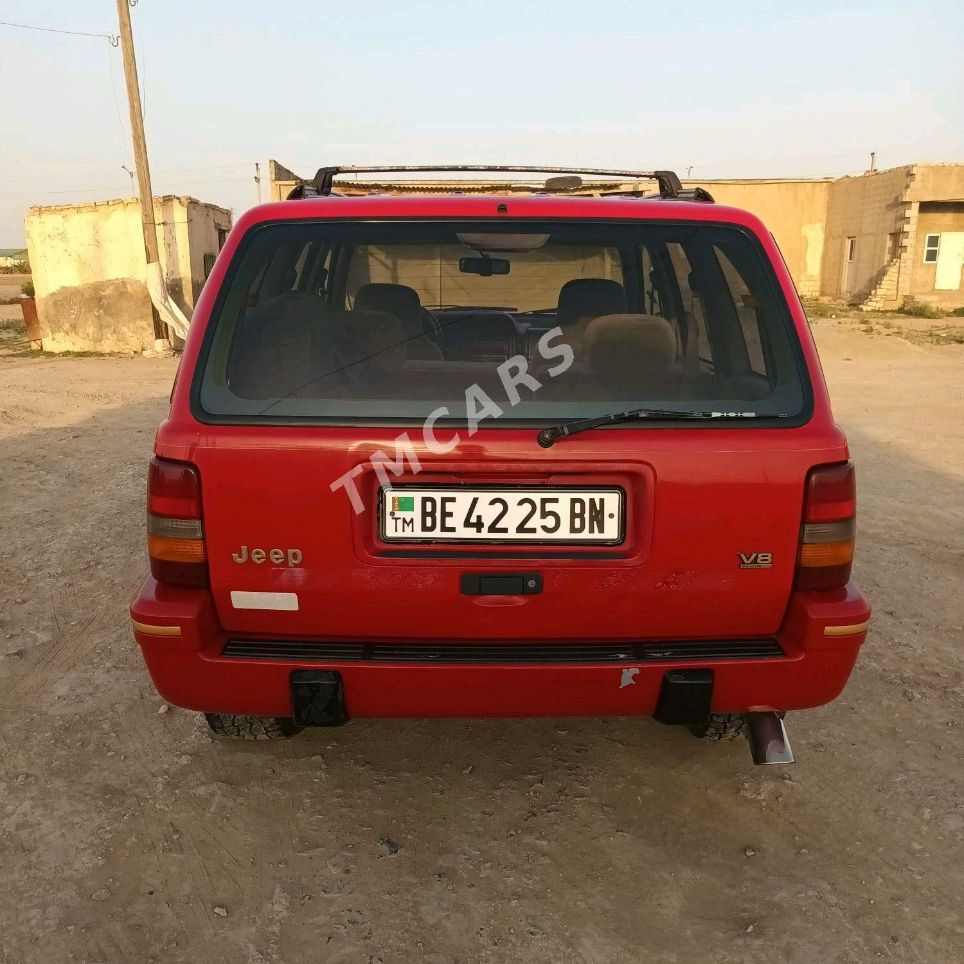license plate: (380, 486, 623, 545)
truck: (120, 166, 875, 768)
